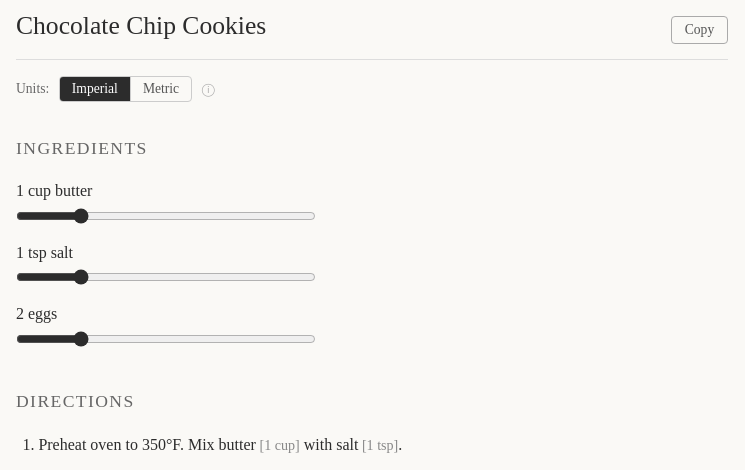
Test: RecipeDisplay › scaling › scale factor adjusts all amounts proportionally
Set the slider below "1 cup butter" to "2" at (157, 216), box [16, 208, 316, 224]
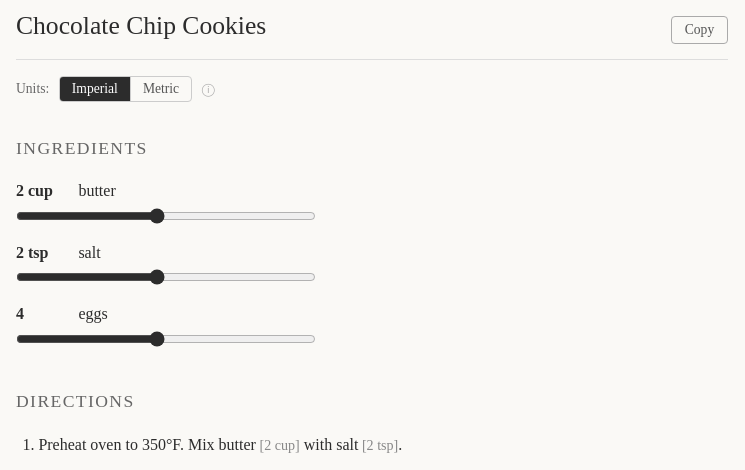
Result: the text with class "amount" reads "2 cup" at [16, 182, 53, 199]
Result: the text with class "amount" reads "2 tsp" at [16, 244, 48, 261]
